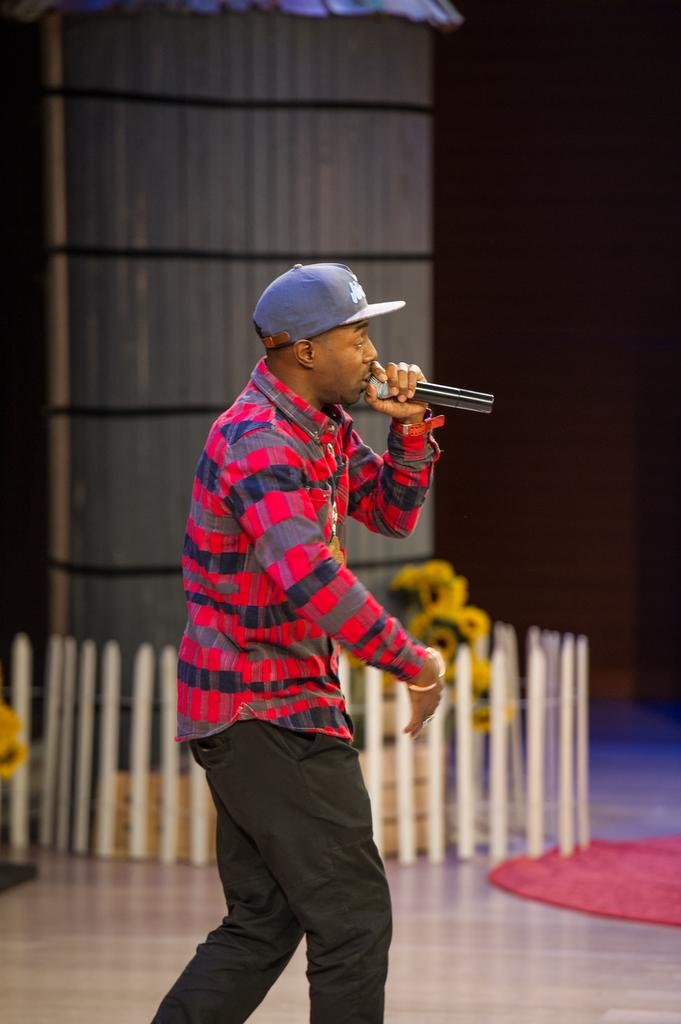Hat: (246, 256, 409, 354)
